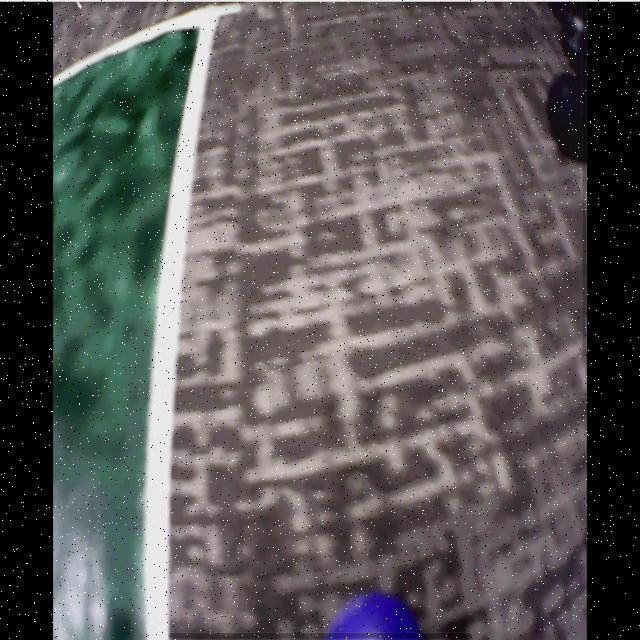ball: (328, 593, 422, 640)
